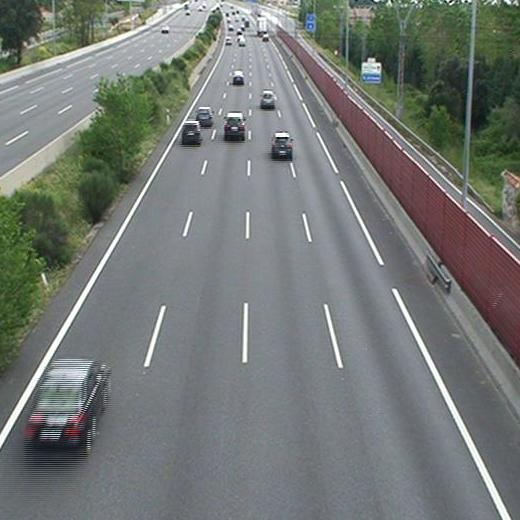car: (28, 360, 108, 440), (271, 133, 292, 155), (224, 114, 244, 135), (183, 121, 201, 140), (196, 107, 213, 122), (260, 91, 276, 106), (233, 71, 244, 82)
